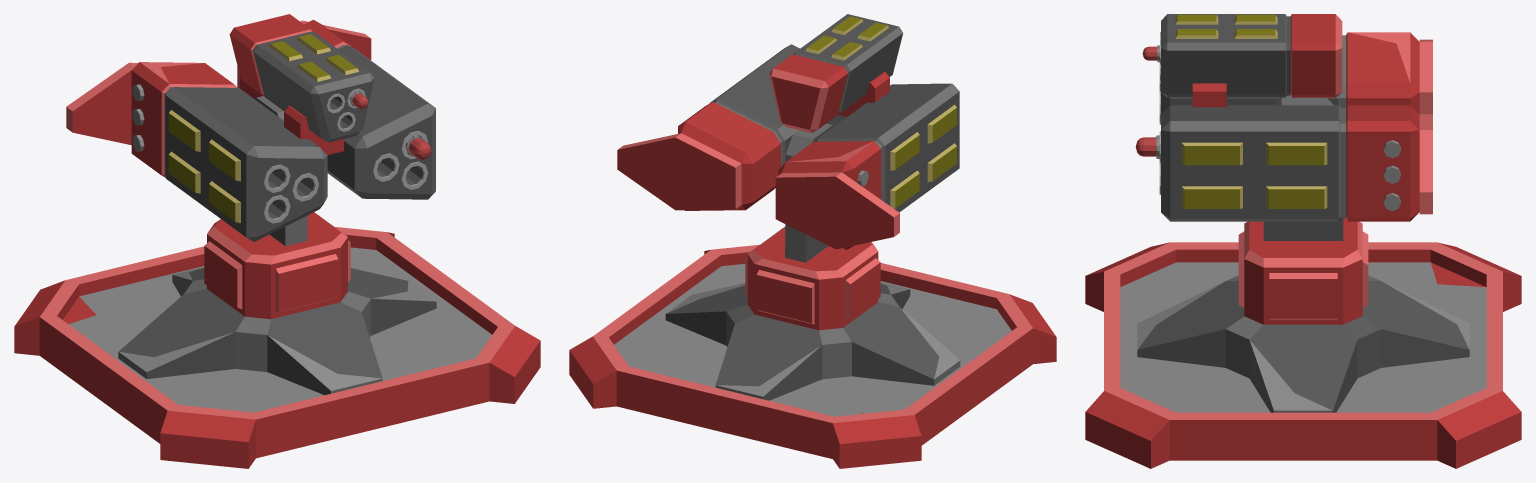
File: tower_rocket_red_3.fbx
3 renders of one model, left to right at view 1: azimuth 30°, elevation 25°; view 2: azimuth 150°, elevation 25°; view 3: azimuth 270°, elevation 25°, orthographic. The views are drawn at different scales.
Visible parts, largest first — view 1: top_rocket_red_3, tower_rocket_red_3; view 2: top_rocket_red_3, tower_rocket_red_3; view 3: top_rocket_red_3, tower_rocket_red_3, rocket_red_3.
Part boxes in pixels (x1,y1,x2,y2): top_rocket_red_3: (66, 14, 436, 395); tower_rocket_red_3: (14, 227, 540, 468); top_rocket_red_3: (617, 14, 960, 400); tower_rocket_red_3: (569, 244, 1056, 468); top_rocket_red_3: (1137, 14, 1469, 412); tower_rocket_red_3: (1085, 242, 1521, 468); rocket_red_3: (1135, 135, 1159, 158).
Size of the model in its own units: 173 by 144 by 164.
